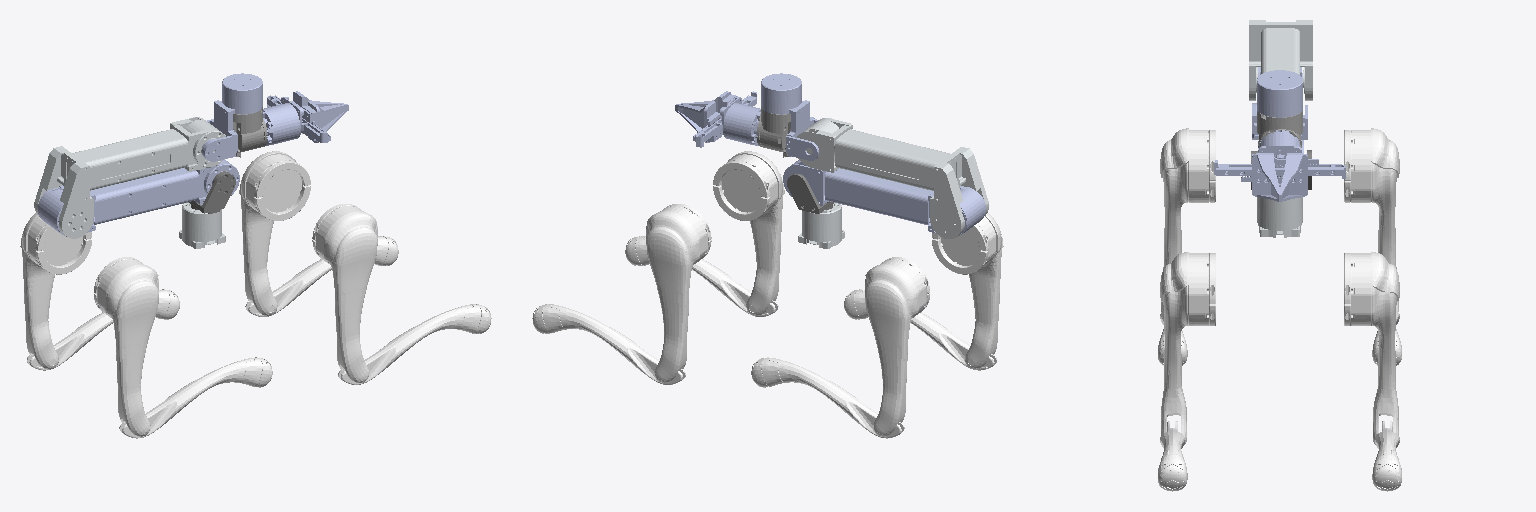
--- What the picture shows (computed from the rendered views, not written in the file) ---
The picture shows the robot from 3 angles, left to right: view 1: azimuth 30°, elevation 25°; view 2: azimuth 150°, elevation 25°; view 3: azimuth 270°, elevation 25°; orthographic projection.
Model go2_arx_description with 36 links and 35 joints (18 revolute, 17 fixed), rooted at base, posed all joints at 0 but 4 set to mid-range because 0 is outside their limits (FL_calf_joint = -1.78, FR_calf_joint = -1.78, RL_calf_joint = -1.78, RR_calf_joint = -1.78).
Visible links, largest first — view 1: arm_link3, RR_thigh, FR_thigh, FL_thigh, RL_thigh, arm_link2, arm_link6, arm_link4, RR_calf, FR_calf, FL_calf, RL_calf (+3 smaller); view 2: arm_link3, RL_thigh, FL_thigh, FR_thigh, arm_link2, RR_thigh, arm_link6, RL_calf, FL_calf, arm_link4, FR_calf, RR_calf (+3 smaller); view 3: FL_thigh, FR_thigh, RL_thigh, RR_thigh, arm_link6, arm_link3, arm_link4, arm_base_link, FR_calf, FL_calf, arm_link5, FL_foot (+1 smaller).
Link boxes in pixels (box(x1,y1,x2,y2)): arm_link3: box(34, 117, 225, 238); RR_thigh: box(94, 257, 158, 436); FR_thigh: box(312, 204, 377, 382); FL_thigh: box(239, 151, 310, 315); RL_thigh: box(20, 213, 91, 369); arm_link2: box(38, 159, 239, 236); arm_link6: box(263, 91, 348, 146); arm_link4: box(202, 73, 262, 161); RR_calf: box(119, 358, 272, 438); FR_calf: box(338, 304, 491, 384); FL_calf: box(245, 236, 398, 316); RL_calf: box(27, 289, 177, 370); arm_link3: box(797, 118, 988, 238); RL_thigh: box(865, 257, 929, 436); FL_thigh: box(646, 204, 711, 382); FR_thigh: box(713, 151, 784, 315); arm_link2: box(783, 160, 985, 236); RR_thigh: box(932, 213, 1003, 369); arm_link6: box(675, 91, 760, 147); RL_calf: box(751, 358, 904, 438); FL_calf: box(532, 304, 685, 384); arm_link4: box(761, 73, 818, 160); FR_calf: box(630, 236, 778, 316); RR_calf: box(849, 289, 996, 370); FL_thigh: box(1344, 252, 1399, 444); FR_thigh: box(1160, 252, 1215, 444); RL_thigh: box(1344, 128, 1399, 311); RR_thigh: box(1160, 128, 1215, 311); arm_link6: box(1214, 130, 1345, 201); arm_link3: box(1249, 20, 1312, 100); arm_link4: box(1252, 70, 1307, 139); arm_base_link: box(1257, 197, 1302, 237); FR_calf: box(1158, 421, 1185, 490); FL_calf: box(1374, 421, 1401, 490); arm_link5: box(1257, 111, 1302, 147); FL_foot: box(1372, 459, 1401, 491).
Size in the robot's own frame: 0.6983 by 0.324 by 0.4819 metres.
19 mesh visuals loaded from 14 distinct referenced files (7 binary STL, 5 Collada DAE); not drawn: 5 (reference not matched to a file when rendering).

URDF robot description (go2_arx_description):
<?xml version="1.0" encoding="utf-8"?>
<!-- This URDF was automatically created by SolidWorks to URDF Exporter! Originally created by
Stephen Brawner ([email redacted]) 
     Commit Version: 1.6.0-4-g7f85cfe  Build Version: 1.6.7995.38578
     For more information, please see http://wiki.ros.org/sw_urdf_exporter -->
<robot
  name="go2_arx_description">
  <link
    name="base">
    <inertial>
      <origin
        xyz="0.021112 0 -0.005366"
        rpy="0 0 0" />
      <mass
        value="6.921" />
      <inertia
        ixx="0.02448"
        ixy="0.00012166"
        ixz="0.0014849"
        iyy="0.098077"
        iyz="-3.12E-05"
        izz="0.107" />
    </inertial>
    <visual>
      <origin
        xyz="0 0 0"
        rpy="0 0 0" />
      <geometry>
        <mesh
          filename="../meshes/base.dae" />
      </geometry>
      <material
        name="">
        <color
          rgba="1 1 1 1" />
      </material>
    </visual>
    <collision>
      <origin rpy="0 0 0" xyz="0 0 0" />
      <geometry>
        <box size="0.3762 0.0935 0.114" />
      </geometry>
    </collision>
  </link>
  <link
    name="Head_upper">
    <inertial>
      <origin
        xyz="0 0 0"
        rpy="0 0 0" />
      <mass
        value="0.001" />
      <inertia
        ixx="9.6e-06"
        ixy="0"
        ixz="0"
        iyy="9.6e-06"
        iyz="0"
        izz="9.6e-06" />
    </inertial>
    <collision>
      <origin
        xyz="0 0 0"
        rpy="0 0 0" />
      <geometry>
        <cylinder radius="0.05" length="0.09" />
      </geometry>
    </collision>
  </link>
  <joint
    name="Head_upper_joint"
    type="fixed" dont_collapse="true">
    <origin
      xyz="0.285 0 0.01"
      rpy="0 0 0" />
    <parent
      link="base" />
    <child
      link="Head_upper" />
    <axis
      xyz="0 0 0" />
  </joint>
  <link
    name="Head_lower">
    <inertial>
      <origin
        xyz="0 0 0"
        rpy="0 0 0" />
      <mass
        value="0.001" />
      <inertia
        ixx="9.6e-06"
        ixy="0"
        ixz="0"
        iyy="9.6e-06"
        iyz="0"
        izz="9.6e-06" />
    </inertial>
    <collision>
      <origin
        xyz="0 0 0"
        rpy="0 0 0" />
      <geometry>
        <sphere radius="0.047" />
      </geometry>
    </collision>
  </link>
  <joint
    name="Head_lower_joint"
    type="fixed" dont_collapse="true">
    <origin
      xyz="0.008 0 -0.07"
      rpy="0 0 0" />
    <parent
      link="Head_upper" />
    <child
      link="Head_lower" />
    <axis
      xyz="0 0 0" />
  </joint>
  <link
    name="FL_hip">
    <inertial>
      <origin
        xyz="-0.0054 0.00194 -0.000105"
        rpy="0 0 0" />
      <mass
        value="0.678" />
      <inertia
        ixx="0.00048"
        ixy="-3.01E-06"
        ixz="1.11E-06"
        iyy="0.000884"
        iyz="-1.42E-06"
        izz="0.000596" />
    </inertial>
    <visual>
      <origin
        xyz="0 0 0"
        rpy="0 0 0" />
      <geometry>
        <mesh
          filename="../meshes/hip.dae" />
      </geometry>
      <material
        name="">
        <color
          rgba="1 1 1 1" />
      </material>
    </visual>
    <collision>
      <origin rpy="1.5707963267948966 0 0" xyz="0 0.08 0" />
      <geometry>
        <cylinder length="0.04" radius="0.046" />
      </geometry>
    </collision>
  </link>
  <joint
    name="FL_hip_joint"
    type="revolute">
    <origin
      xyz="0.1934 0.0465 0"
      rpy="0 0 0" />
    <parent
      link="base" />
    <child
      link="FL_hip" />
    <axis
      xyz="1 0 0" />
    <limit
      lower="-1.0472"
      upper="1.0472"
      effort="23.7"
      velocity="30.1" />
  </joint>
  <link
    name="FL_thigh">
    <inertial>
      <origin
        xyz="-0.00374 -0.0223 -0.0327"
        rpy="0 0 0" />
      <mass
        value="1.152" />
      <inertia
        ixx="0.00584"
        ixy="8.72E-05"
        ixz="-0.000289"
        iyy="0.0058"
        iyz="0.000808"
        izz="0.00103" />
    </inertial>
    <visual>
      <origin
        xyz="0 0 0"
        rpy="0 0 0" />
      <geometry>
        <mesh
          filename="../meshes/thigh.dae" />
      </geometry>
      <material
        name="">
        <color
          rgba="1 1 1 1" />
      </material>
    </visual>
    <collision>
      <origin rpy="0 1.5707963267948966 0" xyz="0 0 -0.1065" />
      <geometry>
        <box size="0.11 0.0245 0.034" />
      </geometry>
    </collision>
  </link>
  <joint
    name="FL_thigh_joint"
    type="revolute">
    <origin
      xyz="0 0.0955 0"
      rpy="0 0 0" />
    <parent
      link="FL_hip" />
    <child
      link="FL_thigh" />
    <axis
      xyz="0 1 0" />
    <limit
      lower="-1.5708"
      upper="3.4907"
      effort="23.7"
      velocity="30.1" />
  </joint>
  <link
    name="FL_calf">
    <inertial>
      <origin
        xyz="0.00548 -0.000975 -0.115"
        rpy="0 0 0" />
      <mass
        value="0.154" />
      <inertia
        ixx="0.00108"
        ixy="3.4E-07"
        ixz="1.72E-05"
        iyy="0.0011"
        iyz="8.28E-06"
        izz="3.29E-05" />
    </inertial>
    <visual>
      <origin
        xyz="0 0 0"
        rpy="0 0 0" />
      <geometry>
        <mesh
          filename="../meshes/calf.dae" />
      </geometry>
      <material
        name="">
        <color
          rgba="1 1 1 1" />
      </material>
    </visual>
    <collision>
      <origin rpy="0 -0.21 0" xyz="0.008 0 -0.06" />
      <geometry>
        <cylinder length="0.12" radius="0.012" />
      </geometry>
    </collision>
  </link>
  <joint
    name="FL_calf_joint"
    type="revolute">
    <origin
      xyz="0 0 -0.213"
      rpy="0 0 0" />
    <parent
      link="FL_thigh" />
    <child
      link="FL_calf" />
    <axis
      xyz="0 1 0" />
    <limit
      lower="-2.7227"
      upper="-0.83776"
      effort="35.55"
      velocity="20.07" />
  </joint>
  <link
    name="FL_calflower">
    <collision>
      <origin rpy="0 0 0" xyz="0 0 0" />
      <geometry>
        <cylinder length="0.065" radius="0.011" />
      </geometry>
    </collision>
  </link>
  <joint
    name="FL_calflower_joint"
    type="fixed">
    <origin
      xyz="0.020 0 -0.148"
      rpy="0 0.05 0" />
    <parent
      link="FL_calf" />
    <child
      link="FL_calflower" />
    <axis
      xyz="0 0 0" />
  </joint>
  <link
    name="FL_calflower1">
    <collision>
      <origin rpy="0 0 0" xyz="0 0 0" />
      <geometry>
        <cylinder length="0.03" radius="0.0155" />
      </geometry>
    </collision>
  </link>
  <joint
    name="FL_calflower1_joint"
    type="fixed">
    <origin
      xyz="-0.01 0 -0.04"
      rpy="0 0.48 0" />
    <parent
      link="FL_calflower" />
    <child
      link="FL_calflower1" />
    <axis
      xyz="0 0 0" />
  </joint>
  <link
    name="FL_foot">
    <inertial>
      <origin
        xyz="0 0 0"
        rpy="0 0 0" />
      <mass
        value="0.04" />
      <inertia
        ixx="9.6e-06"
        ixy="0"
        ixz="0"
        iyy="9.6e-06"
        iyz="0"
        izz="9.6e-06" />
    </inertial>
    <visual>
      <origin
        xyz="0 0 0"
        rpy="0 0 0" />
      <geometry>
        <mesh
          filename="../meshes/foot.dae" />
      </geometry>
      <material
        name="">
        <color
          rgba="1 1 1 1" />
      </material>
    </visual>
    <collision>
      <origin rpy="0 0 0" xyz="-0.002 0 0" />
      <geometry>
        <sphere radius="0.022" />
      </geometry>
    </collision>
  </link>
  <joint
    name="FL_foot_joint"
    type="fixed" dont_collapse="true">
    <origin
      xyz="0 0 -0.213"
      rpy="0 0 0" />
    <parent
      link="FL_calf" />
    <child
      link="FL_foot" />
    <axis
      xyz="0 0 0" />
  </joint>
  <link
    name="FR_hip">
    <inertial>
      <origin
        xyz="-0.0054 -0.00194 -0.000105"
        rpy="0 0 0" />
      <mass
        value="0.678" />
      <inertia
        ixx="0.00048"
        ixy="3.01E-06"
        ixz="1.11E-06"
        iyy="0.000884"
        iyz="1.42E-06"
        izz="0.000596" />
    </inertial>
    <visual>
      <origin
        xyz="0 0 0"
        rpy="3.1415 0 0" />
      <geometry>
        <mesh
          filename="../meshes/hip.dae" />
      </geometry>
      <material
        name="">
        <color
          rgba="1 1 1 1" />
      </material>
    </visual>
    <collision>
      <origin rpy="1.5707963267948966 0 0" xyz="0 -0.08 0" />
      <geometry>
        <cylinder length="0.04" radius="0.046" />
      </geometry>
    </collision>
  </link>
  <joint
    name="FR_hip_joint"
    type="revolute">
    <origin
      xyz="0.1934 -0.0465 0"
      rpy="0 0 0" />
    <parent
      link="base" />
    <child
      link="FR_hip" />
    <axis
      xyz="1 0 0" />
    <limit
      lower="-1.0472"
      upper="1.0472"
      effort="23.7"
      velocity="30.1" />
  </joint>
  <link
    name="FR_thigh">
    <inertial>
      <origin
        xyz="-0.00374 0.0223 -0.0327"
        rpy="0 0 0" />
      <mass
        value="1.152" />
      <inertia
        ixx="0.00584"
        ixy="-8.72E-05"
        ixz="-0.000289"
        iyy="0.0058"
        iyz="-0.000808"
        izz="0.00103" />
    </inertial>
    <visual>
      <origin
        xyz="0 0 0"
        rpy="0 0 0" />
      <geometry>
        <mesh
          filename="../meshes/thigh_mirror.dae" />
      </geometry>
      <material
        name="">
        <color
          rgba="1 1 1 1" />
      </material>
    </visual>
    <collision>
      <origin rpy="0 1.5707963267948966 0" xyz="0 0 -0.1065" />
      <geometry>
        <box size="0.11 0.0245 0.034" />
      </geometry>
    </collision>
  </link>
  <joint
    name="FR_thigh_joint"
    type="revolute">
    <origin
      xyz="0 -0.0955 0"
      rpy="0 0 0" />
    <parent
      link="FR_hip" />
    <child
      link="FR_thigh" />
    <axis
      xyz="0 1 0" />
    <limit
      lower="-1.5708"
      upper="3.4907"
      effort="23.7"
      velocity="30.1" />
  </joint>
  <link
    name="FR_calf">
    <inertial>
      <origin
        xyz="0.00548 0.000975 -0.115"
        rpy="0 0 0" />
      <mass
        value="0.154" />
      <inertia
        ixx="0.00108"
        ixy="-3.4E-07"
        ixz="1.72E-05"
        iyy="0.0011"
        iyz="-8.28E-06"
        izz="3.29E-05" />
    </inertial>
    <visual>
      <origin
        xyz="0 0 0"
        rpy="0 0 0" />
      <geometry>
        <mesh
          filename="../meshes/calf_mirror.dae" />
      </geometry>
      <material
        name="">
        <color
          rgba="1 1 1 1" />
      </material>
    </visual>
    <collision>
      <origin rpy="0 -0.2 0" xyz="0.01 0 -0.06" />
      <geometry>
        <cylinder length="0.12" radius="0.013" />
      </geometry>
    </collision>
  </link>
  <joint
    name="FR_calf_joint"
    type="revolute">
    <origin
      xyz="0 0 -0.213"
      rpy="0 0 0" />
    <parent
      link="FR_thigh" />
    <child
      link="FR_calf" />
    <axis
      xyz="0 1 0" />
    <limit
      lower="-2.7227"
      upper="-0.83776"
      effort="35.55"
      velocity="20.07" />
  </joint>
  <link
    name="FR_calflower">
    <collision>
      <origin rpy="0 0 0" xyz="0 0 0" />
      <geometry>
        <cylinder length="0.065" radius="0.011" />
      </geometry>
    </collision>
  </link>
  <joint
    name="FR_calflower_joint"
    type="fixed">
    <origin
      xyz="0.020 0 -0.148"
      rpy="0 0.05 0" />
    <parent
      link="FR_calf" />
    <child
      link="FR_calflower" />
    <axis
      xyz="0 0 0" />
  </joint>
  <link
    name="FR_calflower1">
    <collision>
      <origin rpy="0 0 0" xyz="0 0 0" />
      <geometry>
        <cylinder length="0.03" radius="0.0155" />
      </geometry>
    </collision>
  </link>
  <joint
    name="FR_calflower1_joint"
    type="fixed">
    <origin
      xyz="-0.01 0 -0.04"
      rpy="0 0.48 0" />
    <parent
      link="FR_calflower" />
    <child
      link="FR_calflower1" />
    <axis
      xyz="0 0 0" />
  </joint>
  <link
    name="FR_foot">
    <inertial>
      <origin
        xyz="0 0 0"
        rpy="0 0 0" />
      <mass
        value="0.04" />
      <inertia
        ixx="9.6e-06"
        ixy="0"
        ixz="0"
        iyy="9.6e-06"
        iyz="0"
        izz="9.6e-06" />
    </inertial>
    <visual>
      <origin
        xyz="0 0 0"
        rpy="0 0 0" />
      <geometry>
        <mesh
          filename="../meshes/foot.dae" />
      </geometry>
      <material
        name="">
        <color
          rgba="1 1 1 1" />
      </material>
    </visual>
    <collision>
      <origin rpy="0 0 0" xyz="-0.002 0 0" />
      <geometry>
        <sphere radius="0.022" />
      </geometry>
    </collision>
  </link>
  <joint
    name="FR_foot_joint"
    type="fixed" dont_collapse="true">
    <origin
      xyz="0 0 -0.213"
      rpy="0 0 0" />
    <parent
      link="FR_calf" />
    <child
      link="FR_foot" />
    <axis
      xyz="0 0 0" />
  </joint>
  <link
    name="RL_hip">
    <inertial>
      <origin
        xyz="0.0054 0.00194 -0.000105"
        rpy="0 0 0" />
      <mass
        value="0.678" />
      <inertia
        ixx="0.00048"
        ixy="3.01E-06"
        ixz="-1.11E-06"
        iyy="0.000884"
        iyz="-1.42E-06"
        izz="0.000596" />
    </inertial>
    <visual>
      <origin
        xyz="0 0 0"
        rpy="0 3.1415 0" />
      <geometry>
        <mesh
          filename="../meshes/hip.dae" />
      </geometry>
      <material
        name="">
        <color
          rgba="1 1 1 1" />
      </material>
    </visual>
    <collision>
      <origin rpy="1.5707963267948966 0 0" xyz="0 0.08 0" />
      <geometry>
        <cylinder length="0.04" radius="0.046" />
      </geometry>
    </collision>
  </link>
  <joint
    name="RL_hip_joint"
    type="revolute">
    <origin
      xyz="-0.1934 0.0465 0"
      rpy="0 0 0" />
    <parent
      link="base" />
    <child
      link="RL_hip" />
    <axis
      xyz="1 0 0" />
    <limit
      lower="-1.0472"
      upper="1.0472"
      effort="23.7"
      velocity="30.1" />
  </joint>
  <link
    name="RL_thigh">
    <inertial>
      <origin
        xyz="-0.00374 -0.0223 -0.0327"
        rpy="0 0 0" />
      <mass
        value="1.152" />
      <inertia
        ixx="0.00584"
        ixy="8.72E-05"
        ixz="-0.000289"
        iyy="0.0058"
        iyz="0.000808"
        izz="0.00103" />
    </inertial>
    <visual>
      <origin
        xyz="0 0 0"
        rpy="0 0 0" />
      <geometry>
        <mesh
          filename="../meshes/thigh.dae" />
      </geometry>
      <material
        name="">
        <color
          rgba="1 1 1 1" />
      </material>
    </visual>
    <collision>
      <origin rpy="0 1.5707963267948966 0" xyz="0 0 -0.1065" />
      <geometry>
        <box size="0.11 0.0245 0.034" />
      </geometry>
    </collision>
  </link>
  <joint
    name="RL_thigh_joint"
    type="revolute">
    <origin
      xyz="0 0.0955 0"
      rpy="0 0 0" />
    <parent
      link="RL_hip" />
    <child
      link="RL_thigh" />
    <axis
      xyz="0 1 0" />
    <limit
      lower="-0.5236"
      upper="4.5379"
      effort="23.7"
      velocity="30.1" />
  </joint>
  <link
    name="RL_calf">
    <inertial>
      <origin
        xyz="0.00548 -0.000975 -0.115"
        rpy="0 0 0" />
      <mass
        value="0.154" />
      <inertia
        ixx="0.00108"
        ixy="3.4E-07"
        ixz="1.72E-05"
        iyy="0.0011"
        iyz="8.28E-06"
        izz="3.29E-05" />
    </inertial>
    <visual>
      <origin
        xyz="0 0 0"
        rpy="0 0 0" />
      <geometry>
        <mesh
          filename="../meshes/calf.dae" />
      </geometry>
      <material
        name="">
        <color
          rgba="1 1 1 1" />
      </material>
    </visual>
    <collision>
      <origin rpy="0 -0.2 0" xyz="0.01 0 -0.06" />
      <geometry>
        <cylinder length="0.12" radius="0.013" />
      </geometry>
    </collision>
  </link>
  <joint
    name="RL_calf_joint"
    type="revolute">
    <origin
      xyz="0 0 -0.213"
      rpy="0 0 0" />
    <parent
      link="RL_thigh" />
    <child
      link="RL_calf" />
    <axis
      xyz="0 1 0" />
    <limit
      lower="-2.7227"
      upper="-0.83776"
      effort="35.55"
      velocity="20.07" />
  </joint>
  <link
    name="RL_calflower">
    <collision>
      <origin rpy="0 0 0" xyz="0 0 0" />
      <geometry>
        <cylinder length="0.065" radius="0.011" />
      </geometry>
    </collision>
  </link>
  <joint
    name="RL_calflower_joint"
    type="fixed">
    <origin
      xyz="0.020 0 -0.148"
      rpy="0 0.05 0" />
    <parent
      link="RL_calf" />
    <child
      link="RL_calflower" />
    <axis
      xyz="0 0 0" />
  </joint>
  <link
    name="RL_calflower1">
    <collision>
      <origin rpy="0 0 0" xyz="0 0 0" />
      <geometry>
        <cylinder length="0.03" radius="0.0155" />
      </geometry>
    </collision>
  </link>
  <joint
    name="RL_calflower1_joint"
    type="fixed">
    <origin
      xyz="-0.01 0 -0.04"
      rpy="0 0.48 0" />
    <parent
      link="RL_calflower" />
    <child
      link="RL_calflower1" />
    <axis
      xyz="0 0 0" />
  </joint>
  <link
    name="RL_foot">
    <inertial>
      <origin
        xyz="0 0 0"
        rpy="0 0 0" />
      <mass
        value="0.04" />
      <inertia
        ixx="9.6e-06"
        ixy="0"
        ixz="0"
        iyy="9.6e-06"
        iyz="0"
        izz="9.6e-06" />
    </inertial>
    <visual>
      <origin
        xyz="0 0 0"
        rpy="0 0 0" />
      <geometry>
        <mesh
          filename="../meshes/foot.dae" />
      </geometry>
      <material
        name="">
        <color
          rgba="1 1 1 1" />
      </material>
    </visual>
    <collision>
      <origin rpy="0 0 0" xyz="-0.002 0 0" />
      <geometry>
        <sphere radius="0.022" />
      </geometry>
    </collision>
  </link>
  <joint
    name="RL_foot_joint"
    type="fixed" dont_collapse="true">
    <origin
      xyz="0 0 -0.213"
      rpy="0 0 0" />
    <parent
      link="RL_calf" />
    <child
      link="RL_foot" />
    <axis
      xyz="0 0 0" />
  </joint>
  <link
    name="RR_hip">
    <inertial>
      <origin
        xyz="0.0054 -0.00194 -0.000105"
        rpy="0 0 0" />
      <mass
        value="0.678" />
      <inertia
        ixx="0.00048"
        ixy="-3.01E-06"
        ixz="-1.11E-06"
        iyy="0.000884"
        iyz="1.42E-06"
        izz="0.000596" />
    </inertial>
    <visual>
      <origin
        xyz="0 0 0"
        rpy="3.1415 3.1415 0" />
      <geometry>
        <mesh
          filename="../meshes/hip.dae" />
      </geometry>
      <material
        name="">
        <color
          rgba="1 1 1 1" />
      </material>
    </visual>
    <collision>
      <origin rpy="1.5707963267948966 0 0" xyz="0 -0.08 0" />
      <geometry>
        <cylinder length="0.04" radius="0.046" />
      </geometry>
    </collision>
  </link>
  <joint
    name="RR_hip_joint"
    type="revolute">
    <origin
      xyz="-0.1934 -0.0465 0"
      rpy="0 0 0" />
    <parent
      link="base" />
    <child
      link="RR_hip" />
    <axis
      xyz="1 0 0" />
    <limit
      lower="-1.0472"
      upper="1.0472"
      effort="23.7"
      velocity="30.1" />
  </joint>
  <link
    name="RR_thigh">
    <inertial>
      <origin
        xyz="-0.00374 0.0223 -0.0327"
        rpy="0 0 0" />
      <mass
        value="1.152" />
      <inertia
        ixx="0.00584"
        ixy="-8.72E-05"
        ixz="-0.000289"
        iyy="0.0058"
        iyz="-0.000808"
        izz="0.00103" />
    </inertial>
    <visual>
      <origin
        xyz="0 0 0"
        rpy="0 0 0" />
      <geometry>
        <mesh
          filename="../meshes/thigh_mirror.dae" />
      </geometry>
      <material
        name="">
        <color
          rgba="1 1 1 1" />
      </material>
    </visual>
    <collision>
      <origin rpy="0 1.5707963267948966 0" xyz="0 0 -0.1065" />
      <geometry>
        <box size="0.11 0.0245 0.034" />
      </geometry>
    </collision>
  </link>
  <joint
    name="RR_thigh_joint"
    type="revolute">
    <origin
      xyz="0 -0.0955 0"
      rpy="0 0 0" />
    <parent
      link="RR_hip" />
    <child
      link="RR_thigh" />
    <axis
      xyz="0 1 0" />
    <limit
      lower="-0.5236"
      upper="4.5379"
      effort="23.7"
      velocity="30.1" />
  </joint>
  <link
    name="RR_calf">
    <inertial>
      <origin
        xyz="0.00548 0.000975 -0.115"
        rpy="0 0 0" />
      <mass
        value="0.154" />
      <inertia
        ixx="0.00108"
        ixy="-3.4E-07"
        ixz="1.72E-05"
        iyy="0.0011"
        iyz="-8.28E-06"
        izz="3.29E-05" />
    </inertial>
    <visual>
      <origin
        xyz="0 0 0"
        rpy="0 0 0" />
      <geometry>
        <mesh
          filename="../meshes/calf_mirror.dae" />
      </geometry>
      <material
        name="">
        <color
          rgba="1 1 1 1" />
      </material>
    </visual>
    <collision>
      <origin rpy="0 -0.2 0" xyz="0.01 0 -0.06" />
      <geometry>
        <cylinder length="0.12" radius="0.013" />
      </geometry>
    </collision>
  </link>
  <joint
    name="RR_calf_joint"
    type="revolute">
    <origin
      xyz="0 0 -0.213"
      rpy="0 0 0" />
    <parent
      link="RR_thigh" />
    <child
      link="RR_calf" />
    <axis
      xyz="0 1 0" />
    <limit
      lower="-2.7227"
      upper="-0.83776"
      effort="35.55"
      velocity="20.07" />
  </joint>
  <link
    name="RR_calflower">
    <collision>
      <origin rpy="0 0 0" xyz="0 0 0" />
      <geometry>
        <cylinder length="0.065" radius="0.011" />
      </geometry>
    </collision>
  </link>
  <joint
    name="RR_calflower_joint"
    type="fixed">
    <origin
      xyz="0.020 0 -0.148"
      rpy="0 0.05 0" />
    <parent
      link="RR_calf" />
    <child
      link="RR_calflower" />
    <axis
      xyz="0 0 0" />
  </joint>
  <link
    name="RR_calflower1">
    <collision>
      <origin rpy="0 0 0" xyz="0 0 0" />
      <geometry>
        <cylinder length="0.03" radius="0.0155" />
      </geometry>
    </collision>
  </link>
  <joint
    name="RR_calflower1_joint"
    type="fixed">
    <origin
      xyz="-0.01 0 -0.04"
      rpy="0 0.48 0" />
    <parent
      link="RR_calflower" />
    <child
      link="RR_calflower1" />
    <axis
      xyz="0 0 0" />
  </joint>
  <link
    name="RR_foot">
    <inertial>
      <origin
        xyz="0 0 0"
        rpy="0 0 0" />
      <mass
        value="0.04" />
      <inertia
        ixx="9.6e-06"
        ixy="0"
        ixz="0"
        iyy="9.6e-06"
        iyz="0"
        izz="9.6e-06" />
    </inertial>
    <visual>
      <origin
        xyz="0 0 0"
        rpy="0 0 0" />
      <geometry>
        <mesh
          filename="../meshes/foot.dae" />
      </geometry>
      <material
        name="">
        <color
          rgba="1 1 1 1" />
      </material>
    </visual>
    <collision>
      <origin rpy="0 0 0" xyz="-0.002 0 0" />
      <geometry>
        <sphere radius="0.022" />
      </geometry>
    </collision>
  </link>
  <joint
    name="RR_foot_joint"
    type="fixed" dont_collapse="true">
    <origin
      xyz="0 0 -0.213"
      rpy="0 0 0" />
    <parent
      link="RR_calf" />
    <child
      link="RR_foot" />
    <axis
      xyz="0 0 0" />
  </joint>
  <link
    name="imu">
    <inertial>
      <origin
        xyz="0 0 0"
        rpy="0 0 0" />
      <mass
        value="0" />
      <inertia
        ixx="0"
        ixy="0"
        ixz="0"
        iyy="0"
        iyz="0"
        izz="0" />
    </inertial>
  </link>
  <joint
    name="imu_joint"
    type="fixed">
    <origin
      xyz="-0.02557 0 0.04232"
      rpy="0 0 0" />
    <parent
      link="base" />
    <child
      link="imu" />
    <axis
      xyz="0 0 0" />
  </joint>
  <link
    name="radar">
    <inertial>
      <origin
        xyz="0 0 0"
        rpy="0 0 0" />
      <mass
        value="0" />
      <inertia
        ixx="0"
        ixy="0"
        ixz="0"
        iyy="0"
        iyz="0"
        izz="0" />
    </inertial>
  </link>
  <joint
    name="radar_joint"
    type="fixed">
    <origin
      xyz="0.28945 0 -0.046825"
      rpy="0 2.8782 0" />
    <parent
      link="base" />
    <child
      link="radar" />
    <axis
      xyz="0 0 0" />
  </joint>

  <link
    name="arm_base_link">
    <inertial>
      <origin
        xyz="-0.000133594636558835 6.67198653031112E-05 0.0316719411200413"
        rpy="0 0 0" />
      <mass
        value="0.422721353715926" />
      <inertia
        ixx="0.00019"
        ixy="0.00000"
        ixz="0.00000"
        iyy="0.00019"
        iyz="0.00000"
        izz="0.00020" />
    </inertial>
    <visual>
      <origin
        xyz="0 0 0"
        rpy="0 0 0" />
      <geometry>
        <mesh
          filename="../meshes/base_link.STL" />
      </geometry>
      <material
        name="">
        <color
          rgba="0.898039215686275 0.917647058823529 0.929411764705882 1" />
      </material>
    </visual>
    <collision>
      <origin
        xyz="0 0 0"
        rpy="0 0 0" />
      <geometry>
        <mesh
          filename="../meshes/base_link.STL" />
      </geometry>
    </collision>
  </link>

    <joint
    name="arm_base_joint"
    type="fixed">
    <origin
      xyz="0 0 0"
      rpy="0 0 0" />
    <parent
      link="base" />
    <child
      link="arm_base_link" />
    <axis
      xyz="0 0 0" />
  </joint>

  <link
    name="arm_link1">
    <inertial>
      <origin
        xyz="0.00503954826792913 -0.00774070193988318 0.0208969420816373"
        rpy="0 0 0" />
      <mass
        value="0.0968040209395549" />
      <inertia
        ixx="0.00011"
        ixy="-0.00001"
        ixz="0.00001"
        iyy="0.00005"
        iyz="-0.00001"
        izz="0.00010"/>
    </inertial>
    <visual>
      <origin
        xyz="0 0 0"
        rpy="0 0 0" />
      <geometry>
        <mesh
          filename="../meshes/link1.STL" />
      </geometry>
      <material
        name="">
        <color
          rgba="0.564705882352941 0.564705882352941 0.564705882352941 1" />
      </material>
    </visual>
    <collision>
      <origin
        xyz="0 0 0"
        rpy="0 0 0" />
      <geometry>
        <mesh
          filename="../meshes/link1.STL" />
      </geometry>
    </collision>
  </link>
  <joint
    name="arm_joint1"
    type="revolute">
    <origin
      xyz="0 0 0.0565"
      rpy="0 0 0" />
    <parent
      link="arm_base_link" />
    <child
      link="arm_link1" />
    <axis
      xyz="0 0 1" />
    <limit
      lower="-10"
      upper="10"
      effort="100"
      velocity="1000" />
  </joint>

  
  <link
    name="arm_link2">
    <inertial>
      <origin
        xyz="-0.129772605589326 -0.00135280906897206 -1.25530093963711E-05"
        rpy="0 0 0" />
      <mass
        value="1.11872105871019" />
      <inertia
        ixx="0.00058"
        ixy="0.00008"
        ixz="0.00000"
        iyy="0.01624"
        iyz="0.00000"
        izz="0.01621" />
    </inertial>
    <visual>
      <origin
        xyz="0 0 0"
        rpy="0 0 0" />
      <geometry>
        <mesh
          filename="../meshes/link2.STL" />
      </geometry>
      <material
        name="">
        <color
          rgba="0.792156862745098 0.819607843137255 0.933333333333333 1" />
      </material>
    </visual>
    <collision>
      <origin
        xyz="0 0 0"
        rpy="0 0 0" />
      <geometry>
        <mesh
          filename="../meshes/link2.STL" />
      </geometry>
    </collision>
  </link>
  <joint
    name="arm_joint2"
    type="revolute">
    <origin
      xyz="0.02 0 0.047"
      rpy="0 0 0" />
    <parent
      link="arm_link1" />
    <child
      link="arm_link2" />
    <axis
      xyz="0 1 0" />
    <limit
      lower="-10"
      upper="10"
      effort="100"
      velocity="1000" />
  </joint>
  <link
    name="arm_link3">
    <inertial>
      <origin
        xyz="0.161808413550856 0.00117234812671152 -0.0545500014865948"
        rpy="0 0 0" />
      <mass
        value="0.840824525877169" />
      <inertia
        ixx="0.00082"
        ixy="0.00008"
        ixz="-0.00074"
        iyy="0.00849"
        iyz="0.00001"
        izz="0.00834"/>
    </inertial>
    <visual>
      <origin
        xyz="0 0 0"
        rpy="0 0 0" />
      <geometry>
        <mesh
          filename="../meshes/link3.STL" />
      </geometry>
      <material
        name="">
        <color
          rgba="0.898039215686275 0.917647058823529 0.929411764705882 1" />
      </material>
    </visual>
    <collision>
      <origin
        xyz="0 0 0"
        rpy="0 0 0" />
      <geometry>
        <mesh
          filename="../meshes/link3.STL" />
      </geometry>
    </collision>
  </link>
  <joint
    name="arm_joint3"
    type="revolute">
    <origin
      xyz="-0.264 0 0"
      rpy="-3.1416 0 0" />
    <parent
      link="arm_link2" />
    <child
      link="arm_link3" />
    <axis
      xyz="0 1 0" />
    <limit
      lower="-10"
      upper="10"
      effort="100"
      velocity="1000" />
  </joint>
  <link
    name="arm_link4">
    <inertial>
      <origin
        xyz="0.0417509911034941 0.00542364535604879 -0.0333698322632074"
        rpy="0 0 0" />
      <mass
        value="0.124324803309629" />
      <inertia
        ixx="0.00022"
        ixy="-0.00002"
        ixz="-0.00009"
        iyy="0.00025"
        iyz="0.00002"
        izz="0.00017" />
    </inertial>
    <visual>
      <origin
        xyz="0 0 0"
        rpy="0 0 0" />
      <geometry>
        <mesh
          filename="../meshes/link4.STL" />
      </geometry>
      <material
        name="">
        <color
          rgba="0.792156862745098 0.819607843137255 0.933333333333333 1" />
      </material>
    </visual>
    <collision>
      <origin
        xyz="0 0 0"
        rpy="0 0 0" />
      <geometry>
        <mesh
          filename="../meshes/link4.STL" />
      </geometry>
    </collision>
  </link>
  <joint
    name="arm_joint4"
    type="revolute">
    <origin
      xyz="0.245 -5E-05 -0.06"
      rpy="0 0 0" />
    <parent
      link="arm_link3" />
    <child
      link="arm_link4" />
    <axis
      xyz="0 1 0" />
    <limit
      lower="-10"
      upper="10"
      effort="100"
      velocity="1000" />
  </joint>
  <link
    name="arm_link5">
    <inertial>
      <origin
        xyz="-8.34347586788076E-05 -1.54277362126536E-05 0.0522159141095905"
        rpy="0 0 0" />
      <mass
        value="0.636013398718113" />
      <inertia
        ixx="0.00084"
        ixy="0.00000"
        ixz="0.00007"
        iyy="0.00082"
        iyz="0.00000"
        izz="0.00026" />
    </inertial>
    <visual>
      <origin
        xyz="0 0 0"
        rpy="0 0 0" />
      <geometry>
        <mesh
          filename="../meshes/link5.STL" />
      </geometry>
      <material
        name="">
        <color
          rgba="0.698039215686274 0.698039215686274 0.698039215686274 1" />
      </material>
    </visual>
    <collision>
      <origin
        xyz="0 0 0"
        rpy="0 0 0" />
      <geometry>
        <mesh
          filename="../meshes/link5.STL" />
      </geometry>
    </collision>
  </link>
  <joint
    name="arm_joint5"
    type="revolute">
    <origin
      xyz="0.073914 5E-05 -0.083391"
      rpy="0 0 0" />
    <parent
      link="arm_link4" />
    <child
      link="arm_link5" />
    <axis
      xyz="0 0 1" />
    <limit
      lower="-10"
      upper="10"
      effort="100"
      velocity="1000" />
  </joint>
  <link
    name="arm_link6">
    <inertial>
      <origin
        xyz="0.0507223791682477 -4.87718325388323E-05 5.11083473064E-05"
        rpy="0 0 0" />
      <mass
        value="0.562622175728676" />
      <inertia
        ixx="0.00046"
        ixy="0.00000"
        ixz="0.00000"
        iyy="0.00052"
        iyz="0.00000"
        izz="0.00078" />
    </inertial>
    <visual>
      <origin
        xyz="0 0 0"
        rpy="0 0 0" />
      <geometry>
        <mesh
          filename="../meshes/link6.STL" />
      </geometry>
      <material
        name="">
        <color
          rgba="0.792156862745098 0.819607843137255 0.933333333333333 1" />
      </material>
    </visual>
    <collision>
      <origin
        xyz="0 0 0"
        rpy="0 0 0" />
      <geometry>
        <mesh
          filename="../meshes/link6.STL" />
      </geometry>
    </collision>
  </link>
  <joint
    name="arm_joint6"
    type="revolute">
    <origin
      xyz="0.025286 0 0.083391"
      rpy="3.1416 0 0" />
    <parent
      link="arm_link5" />
    <child
      link="arm_link6" />
    <axis
      xyz="1 0 0" />
    <limit
      lower="-10"
      upper="10"
      effort="100"
      velocity="1000" />
  </joint>

</robot>
